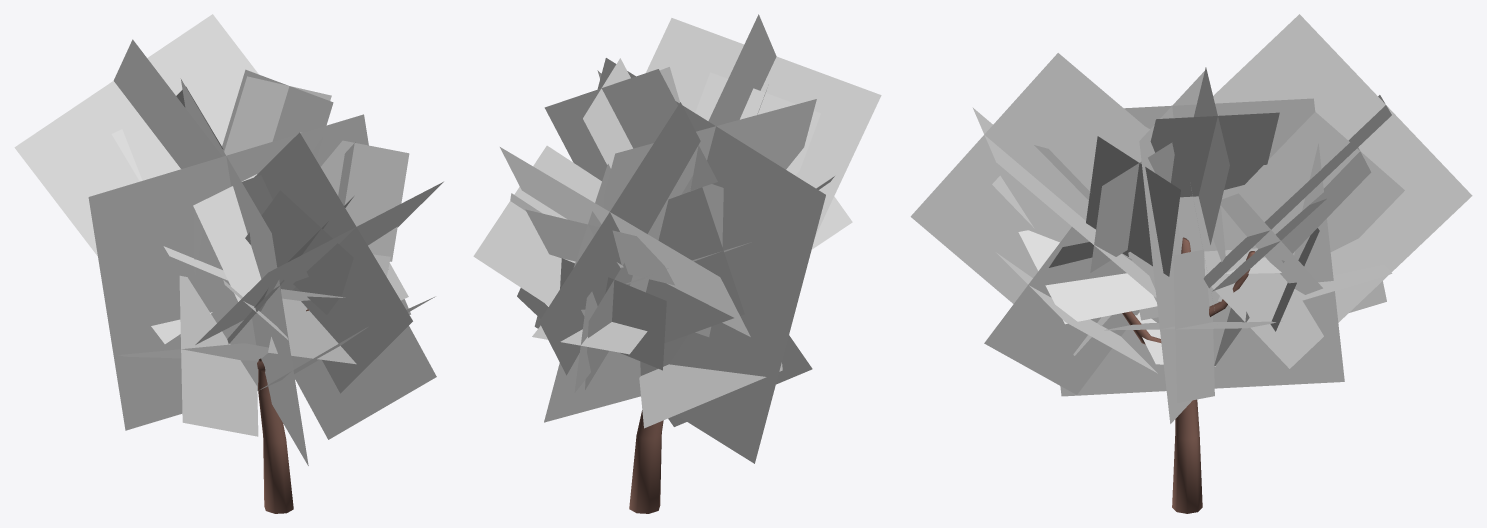
The model's file is Tree6.fbx.
3 renders of one model, left to right at view 1: azimuth 30°, elevation 25°; view 2: azimuth 150°, elevation 25°; view 3: azimuth 270°, elevation 25°, orthographic. The views are drawn at different scales.
Parts seen in each view (by area): view 1: Plane.010; view 2: Plane.010; view 3: Plane.010.
Part boxes in pixels (box(x1,y1,x2,y2)): Plane.010: box(14, 14, 443, 513); Plane.010: box(473, 14, 881, 513); Plane.010: box(910, 14, 1472, 513).
Size of the model in its own units: 1352 by 1881 by 2132.
